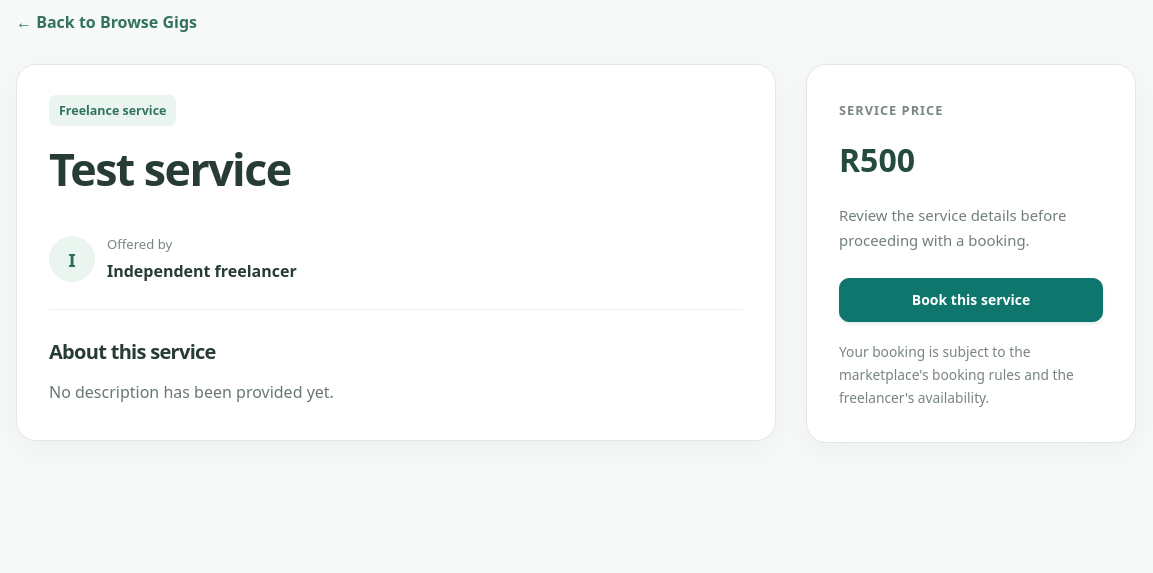
Test: GigDetails Component › blocks repeat clicks while saving and after successful submission
Step 1. Click the button "Book this service" → (971, 300), box [839,278,1103,322]
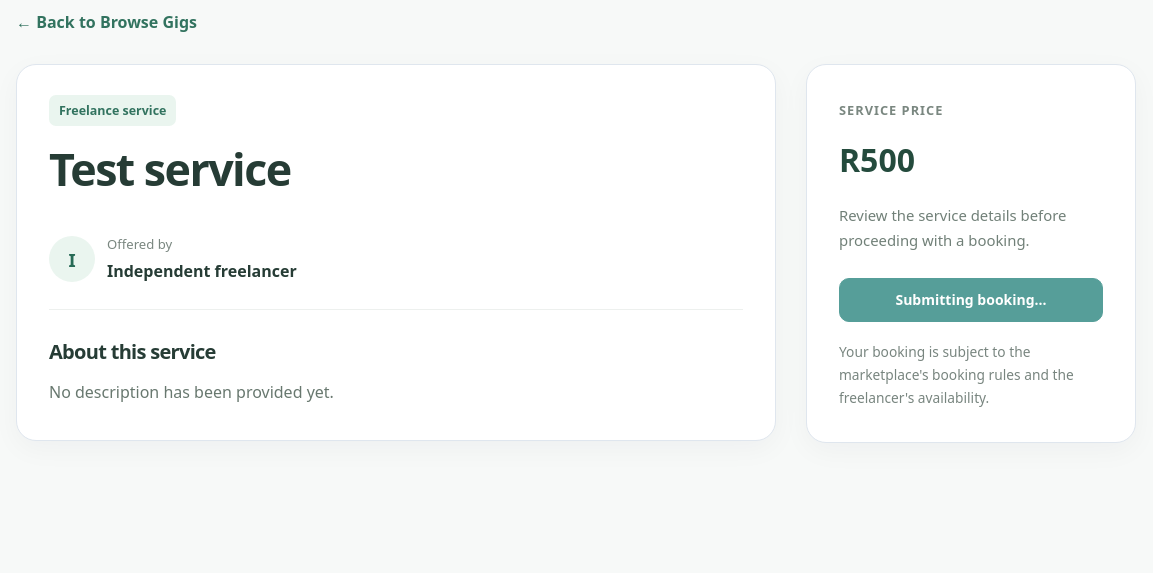
Step 2. Click the button named "Book this service" → (971, 300), box [839,278,1103,322]
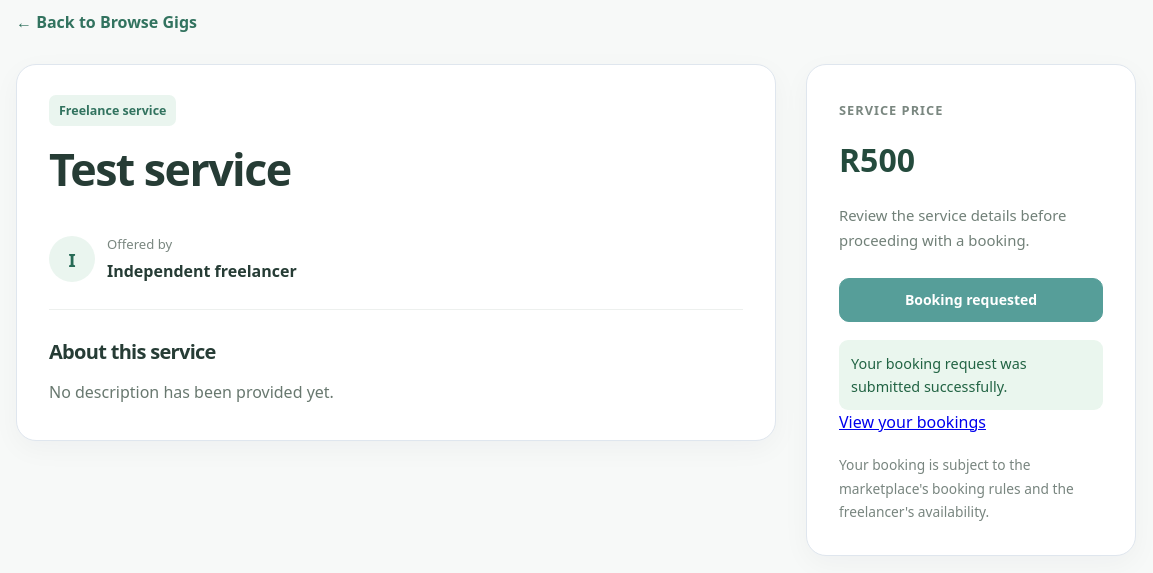
Check: the button "Booking requested" is disabled, box [839,278,1103,322]
Check: the link "View your bookings" is shown, box [839,411,986,433]
